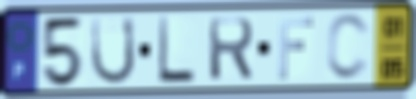5: (40, 14, 90, 90)
C: (324, 11, 373, 84)
F: (276, 15, 317, 82)
L: (156, 14, 198, 86)
R: (206, 15, 257, 83)
U: (88, 14, 138, 88)
